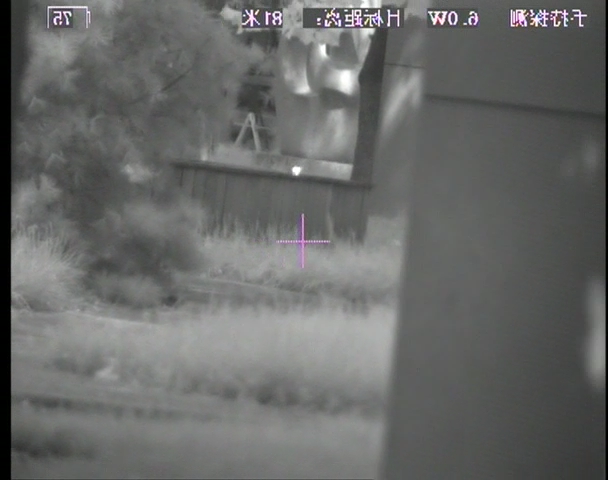my: (291, 163, 302, 176)
